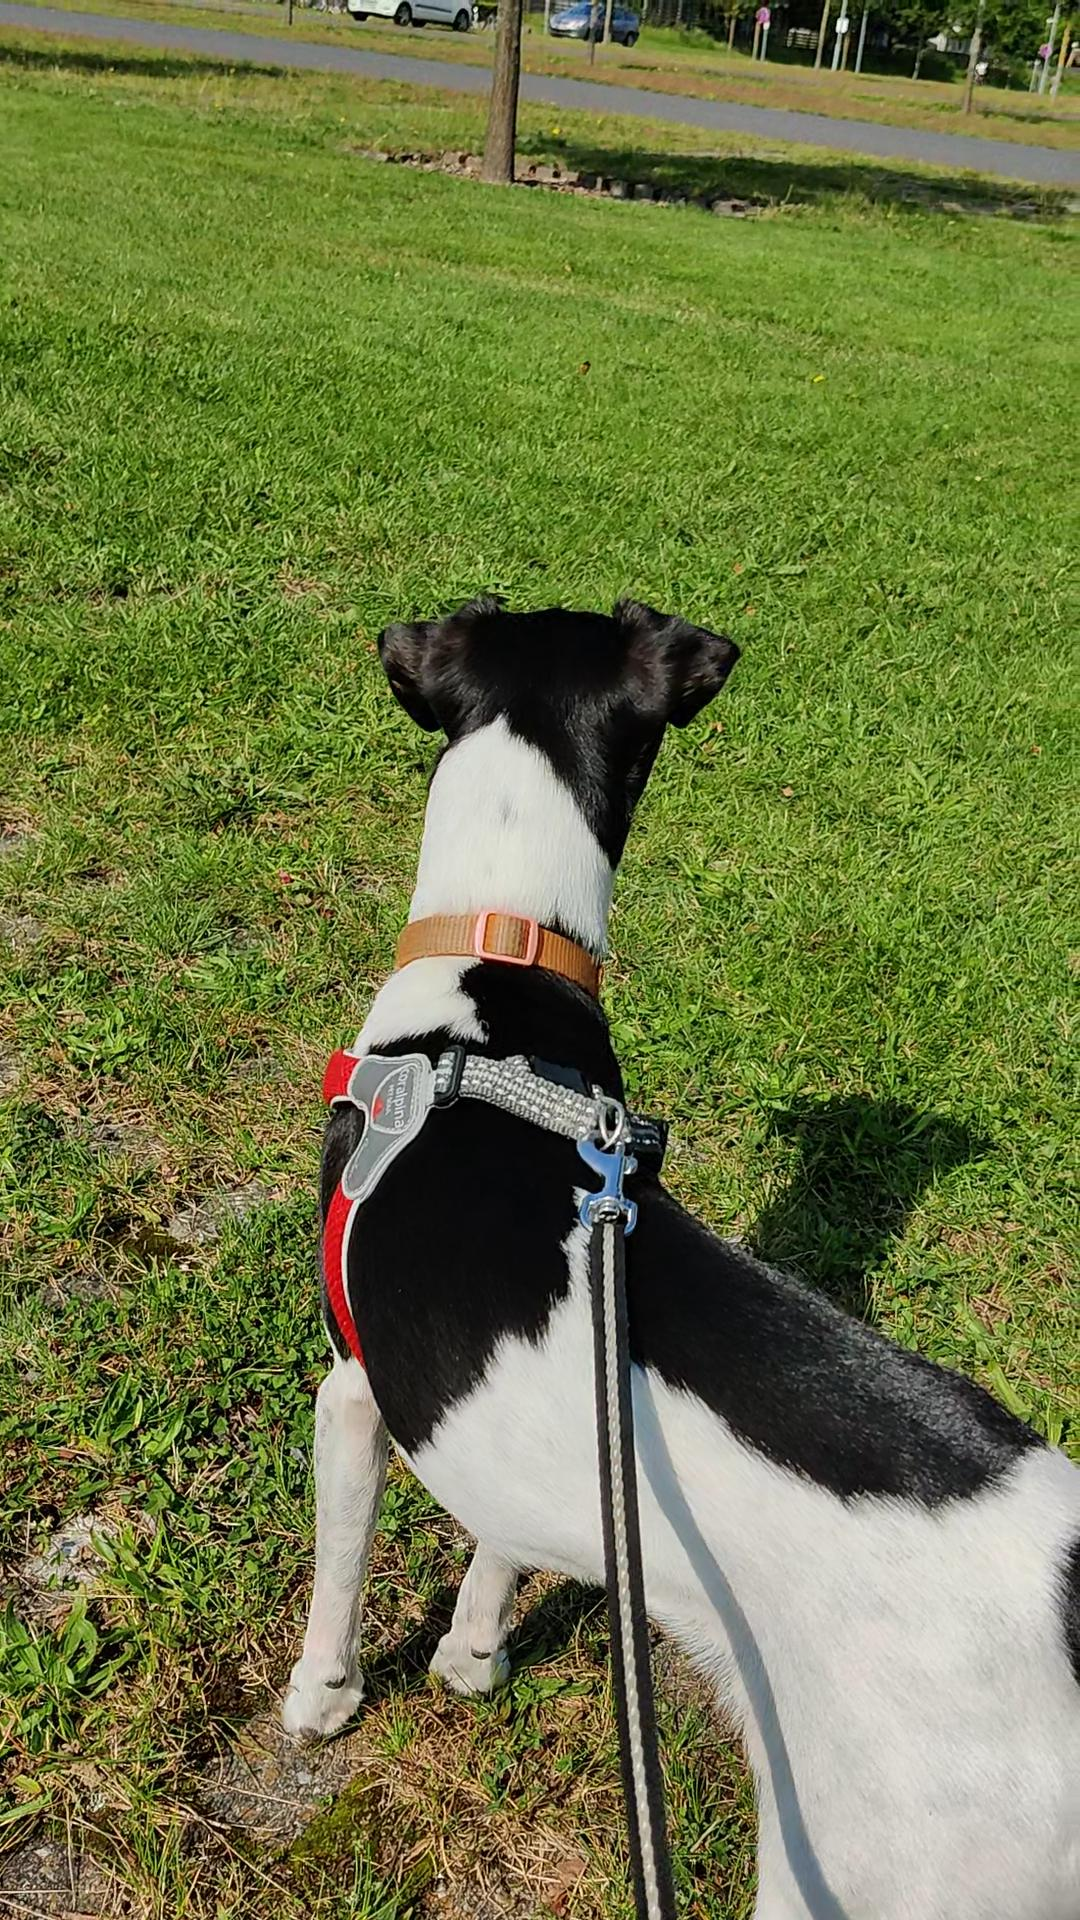Dog: (240, 562, 1079, 1919)
